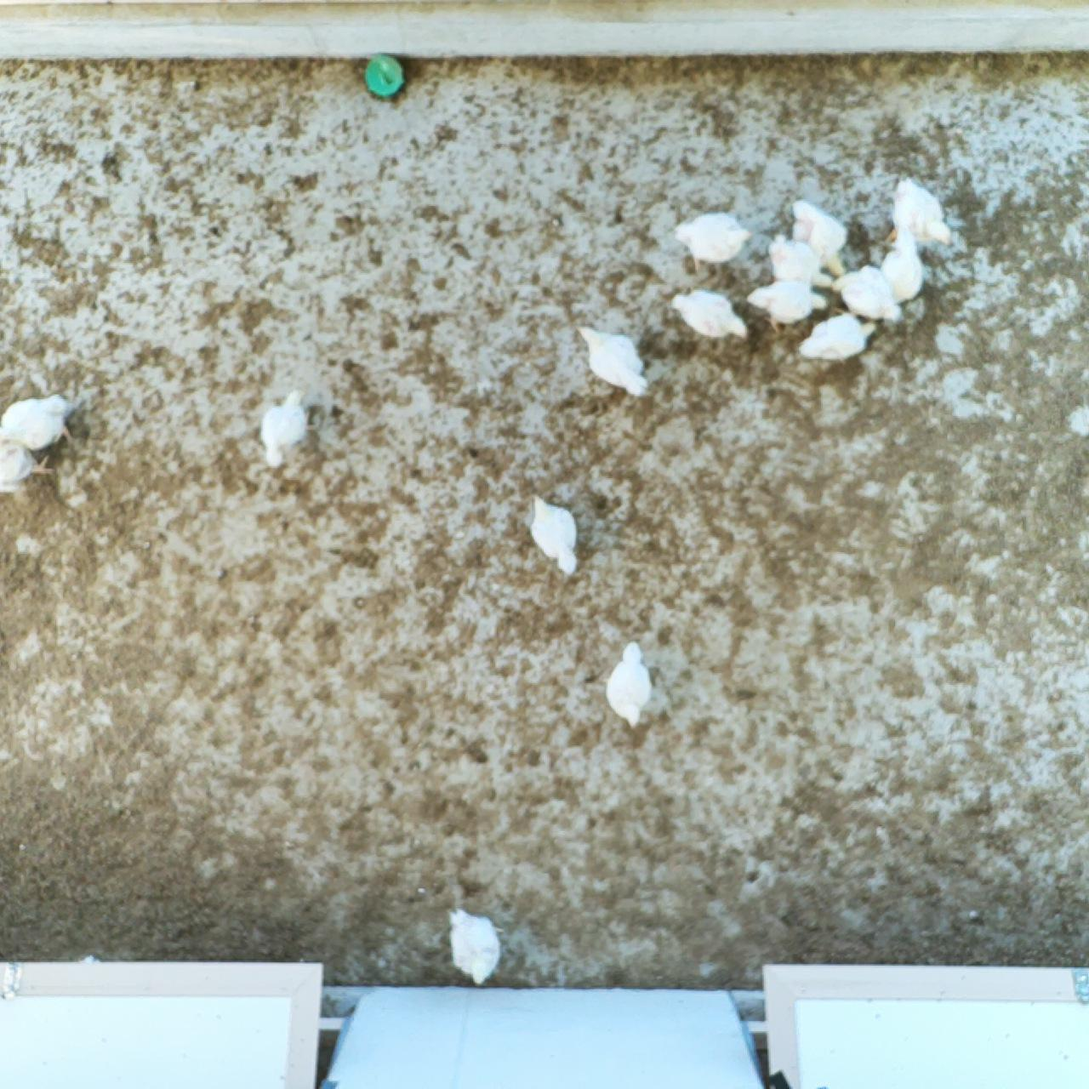chicken: (573, 319, 653, 401), (671, 206, 753, 275), (884, 174, 956, 252), (445, 902, 508, 989), (526, 490, 584, 583), (667, 282, 754, 342), (257, 385, 316, 472), (604, 636, 655, 731), (828, 261, 906, 323), (763, 228, 839, 290), (0, 390, 78, 450), (872, 225, 928, 307), (789, 194, 851, 267), (0, 439, 57, 495)
